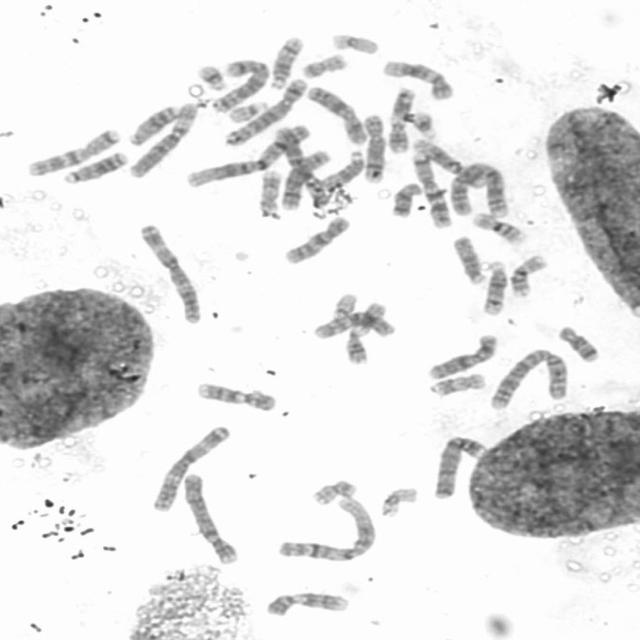A1: (183, 123, 312, 189), (278, 496, 377, 564)
A2: (489, 346, 571, 412), (446, 160, 512, 218)
A3: (151, 426, 235, 514), (137, 223, 204, 325)
B4: (181, 472, 240, 566), (431, 434, 489, 500)
B5: (223, 75, 310, 148), (210, 56, 270, 116)
C10: (282, 214, 352, 266), (312, 309, 399, 340)
C11: (342, 302, 389, 367), (387, 84, 419, 156)
C12: (411, 136, 488, 188), (382, 59, 454, 101)
C6: (128, 102, 200, 179), (272, 127, 328, 210)
C7: (19, 126, 124, 178), (408, 149, 455, 229)
C8: (280, 148, 334, 212), (361, 113, 387, 183)
C9: (195, 380, 278, 413), (265, 590, 352, 616)
D13: (61, 150, 132, 185), (128, 104, 180, 147)
D14: (269, 34, 304, 92), (479, 260, 508, 318)
D15: (318, 150, 368, 193), (451, 235, 486, 285)
E16: (471, 210, 529, 245), (509, 253, 550, 301)
E17: (428, 372, 487, 398), (257, 169, 284, 213)
E18: (556, 324, 605, 364), (389, 182, 424, 219)
F19: (379, 486, 417, 519), (328, 33, 380, 56)
F20: (300, 52, 349, 80), (311, 479, 358, 506)
G21: (192, 63, 228, 91), (411, 109, 440, 140)
G22: (330, 291, 360, 328), (227, 100, 268, 126)
X: (306, 84, 368, 144), (425, 334, 500, 380)
